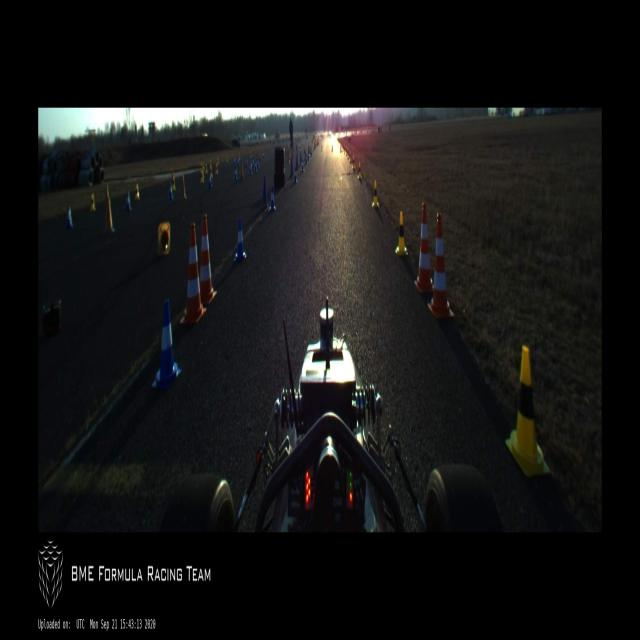blue_cone: (152, 298, 182, 390), (234, 217, 247, 263), (269, 185, 276, 212), (65, 206, 73, 229), (125, 191, 132, 212), (168, 182, 173, 200), (293, 166, 297, 184), (234, 165, 238, 181), (208, 174, 212, 189), (301, 158, 304, 172), (249, 163, 252, 175), (305, 154, 308, 164), (255, 160, 257, 172), (257, 158, 259, 170), (308, 151, 310, 161)
large_orange_cone: (427, 212, 454, 320), (180, 222, 207, 324), (414, 202, 434, 292), (200, 213, 217, 304)
unknown_cone: (102, 198, 115, 235), (157, 222, 170, 254), (261, 176, 268, 210), (180, 175, 187, 200), (240, 160, 244, 181), (290, 158, 294, 178), (105, 183, 109, 202), (299, 151, 302, 167), (296, 153, 298, 171), (304, 148, 306, 160)
yellow_cone: (505, 346, 550, 478), (395, 211, 408, 256), (371, 180, 379, 208), (135, 183, 140, 201), (357, 162, 362, 179), (90, 194, 95, 211), (352, 154, 356, 169), (172, 177, 176, 191), (348, 149, 352, 162), (200, 170, 204, 182), (210, 166, 213, 178), (215, 164, 218, 174), (347, 148, 349, 160), (344, 144, 346, 156), (345, 145, 347, 157), (205, 163, 207, 174), (340, 144, 342, 154)
